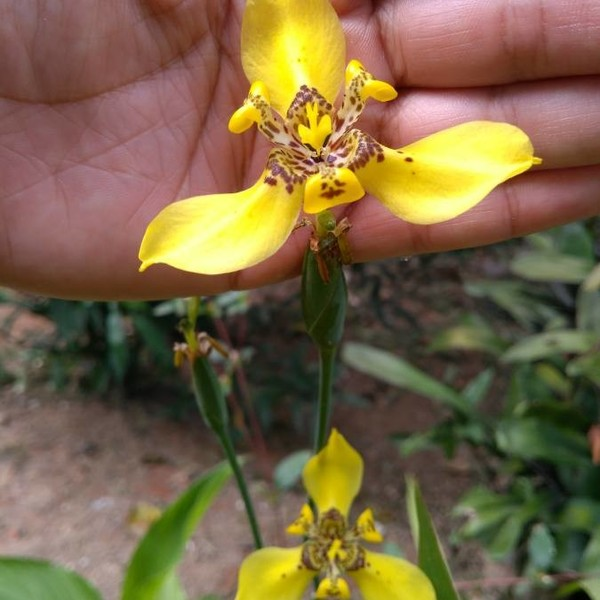obstacle: (138, 8, 511, 440)
